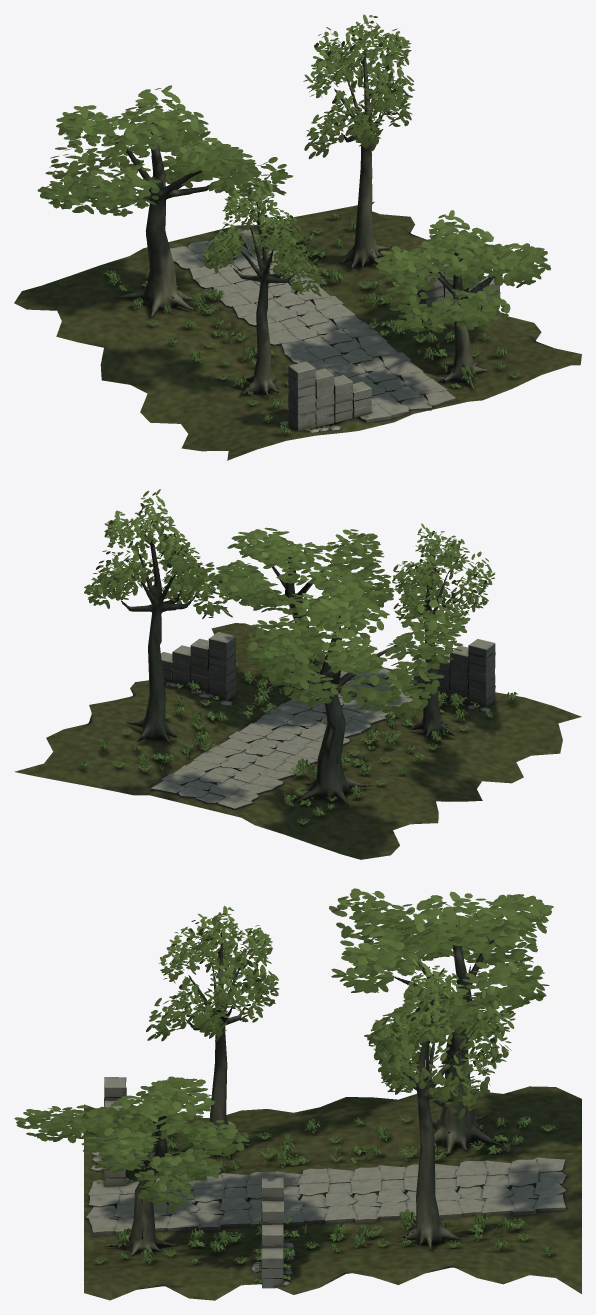
3 views of the same model, one above another, from view 1: azimuth 30°, elevation 25°; view 2: azimuth 150°, elevation 25°; view 3: azimuth 270°, elevation 25° (orthographic). The views are drawn at different scales.
Visible parts, largest first — view 1: ForestPatch_Foliage_Cell_-1_-2, ForestPatch_Ground_Cell_-1_-2, ForestPatch_Stone_Cell_-1_-2, ForestPatch_Wood_Cell_-1_-2, ForestPatch_Foliage_Cell_-1_-1, ForestPatch_Stone_Cell_-1_-1, ForestPatch_Ground_Cell_-1_-1, ForestPatch_Wood_Cell_-1_-1; view 2: ForestPatch_Foliage_Cell_-1_-2, ForestPatch_Ground_Cell_-1_-2, ForestPatch_Stone_Cell_-1_-2, ForestPatch_Wood_Cell_-1_-2, ForestPatch_Foliage_Cell_-1_-1, ForestPatch_Stone_Cell_-1_-1, ForestPatch_Ground_Cell_-1_-1; view 3: ForestPatch_Foliage_Cell_-1_-2, ForestPatch_Ground_Cell_-1_-2, ForestPatch_Stone_Cell_-1_-2, ForestPatch_Wood_Cell_-1_-2, ForestPatch_Foliage_Cell_-1_-1, ForestPatch_Ground_Cell_-1_-1, ForestPatch_Stone_Cell_-1_-1, ForestPatch_Wood_Cell_-1_-1.
Boxes of the visible parts, bbox=[...] form: ForestPatch_Foliage_Cell_-1_-2: bbox=[37, 14, 544, 422]; ForestPatch_Ground_Cell_-1_-2: bbox=[14, 201, 553, 451]; ForestPatch_Stone_Cell_-1_-2: bbox=[170, 229, 500, 397]; ForestPatch_Wood_Cell_-1_-2: bbox=[113, 44, 492, 398]; ForestPatch_Foliage_Cell_-1_-1: bbox=[278, 243, 550, 434]; ForestPatch_Stone_Cell_-1_-1: bbox=[279, 361, 456, 432]; ForestPatch_Ground_Cell_-1_-1: bbox=[202, 348, 581, 460]; ForestPatch_Wood_Cell_-1_-1: bbox=[435, 270, 506, 389]; ForestPatch_Foliage_Cell_-1_-2: bbox=[78, 489, 494, 824]; ForestPatch_Ground_Cell_-1_-2: bbox=[14, 643, 562, 859]; ForestPatch_Stone_Cell_-1_-2: bbox=[150, 632, 413, 809]; ForestPatch_Wood_Cell_-1_-2: bbox=[121, 526, 456, 807]; ForestPatch_Foliage_Cell_-1_-1: bbox=[227, 527, 517, 707]; ForestPatch_Stone_Cell_-1_-1: bbox=[340, 639, 495, 711]; ForestPatch_Ground_Cell_-1_-1: bbox=[211, 623, 581, 739]; ForestPatch_Foliage_Cell_-1_-2: bbox=[138, 888, 556, 1283]; ForestPatch_Ground_Cell_-1_-2: bbox=[136, 1086, 581, 1300]; ForestPatch_Stone_Cell_-1_-2: bbox=[152, 1157, 566, 1288]; ForestPatch_Wood_Cell_-1_-2: bbox=[139, 925, 503, 1255]; ForestPatch_Foliage_Cell_-1_-1: bbox=[14, 1091, 144, 1264]; ForestPatch_Ground_Cell_-1_-1: bbox=[84, 1104, 136, 1300]; ForestPatch_Stone_Cell_-1_-1: bbox=[85, 1077, 139, 1235]; ForestPatch_Wood_Cell_-1_-1: bbox=[86, 1131, 145, 1255].
Size of the model in its own units: 19.31 by 13.42 by 21.67.
2 materials, 1 textured.
